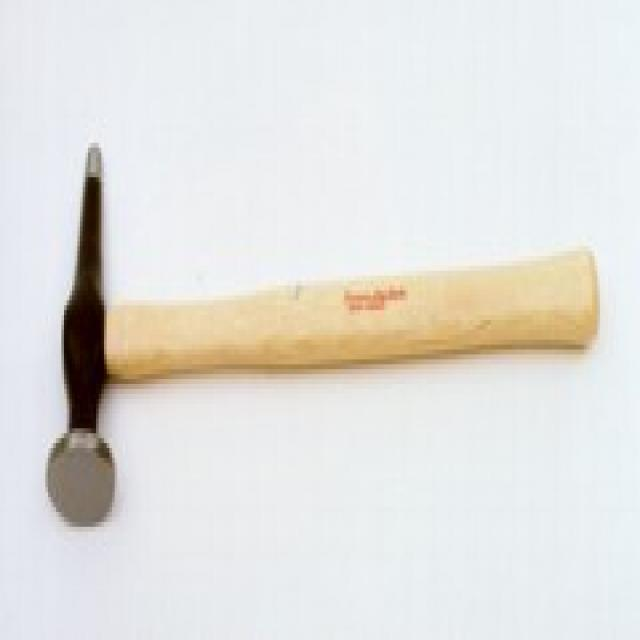hammer: (32, 116, 616, 547)
